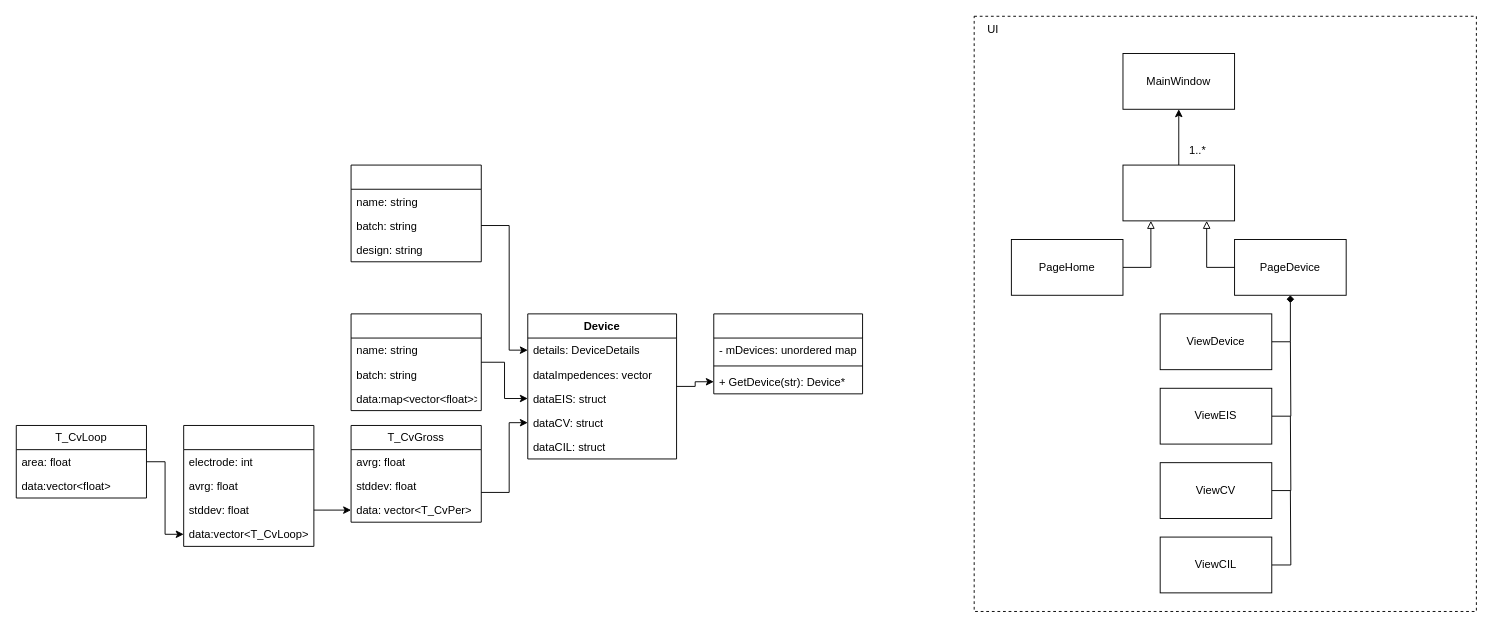
Image size: 1493x628. Some labels were removed from this diagram. The box of each missing label's shape, as (x1, y1, x2, y2) in pixels:
DeviceDetails: (350, 164, 481, 262)
DeviceManager: (713, 313, 863, 394)
PageGeneric: (1122, 164, 1235, 221)
T_CvPer: (183, 425, 314, 546)
T_Eis: (350, 313, 481, 411)
